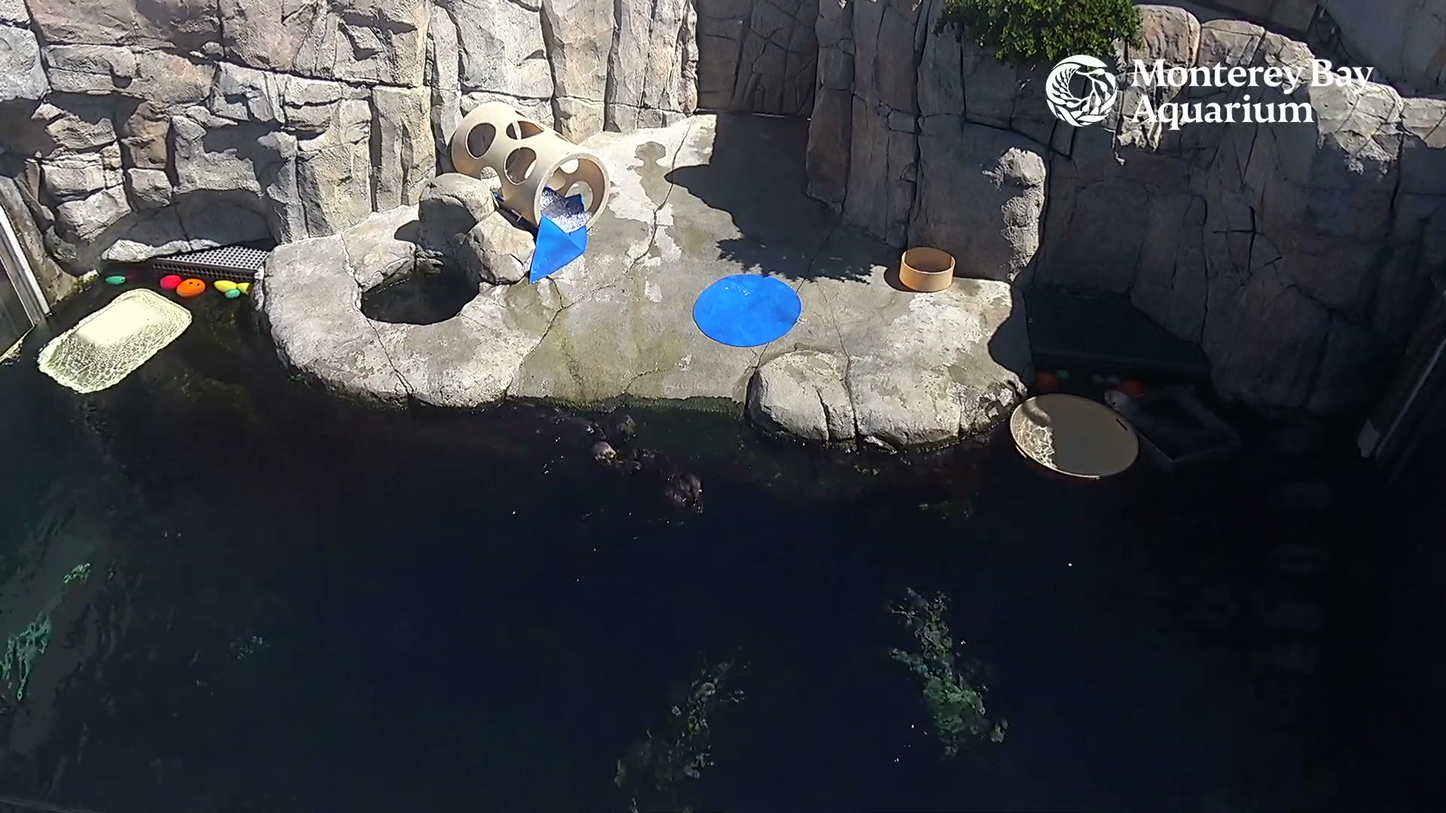Southern Sea Otter: (586, 435, 712, 528), (1098, 388, 1228, 453), (530, 400, 652, 450)
